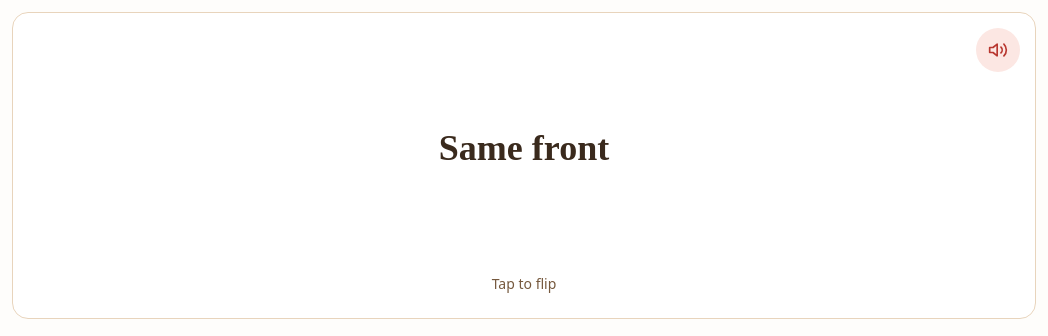
Test: Flashcard › resets both face positions and the flip when only pronunciation changes
Later steps or results of the test are not shown.
What coordinates should you click on to do the following:
click the button with aria-label "Show the meaning of Same front"
I would click on:
 (524, 166)
Its box is [12,12,1036,319].
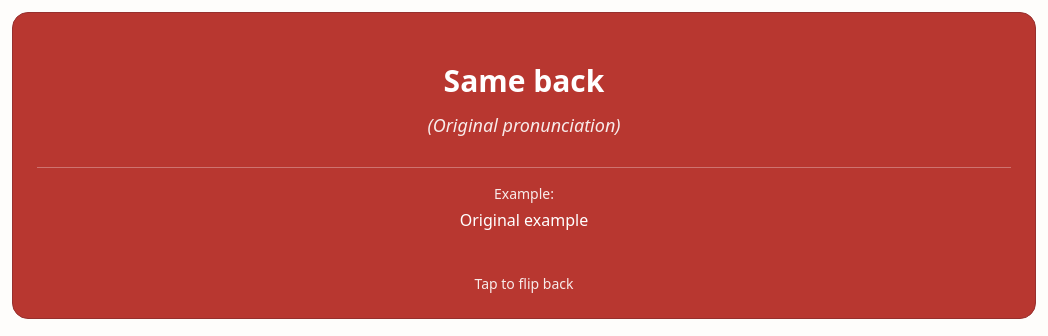
Expected: the button with aria-label "Show the Chamorro side for Same back" is pressed
